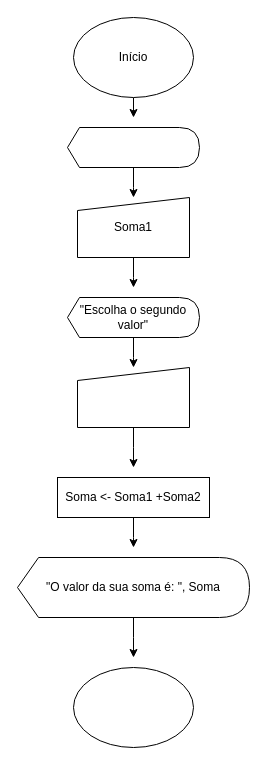
This 267x765 diagram has some shape labels left out. Here are the shapes that lost their labels. From the top down, the centre of each, then its label:
pixel 133 147: "Faça a soma"
pixel 133 397: Soma2
pixel 133 707: FIM
